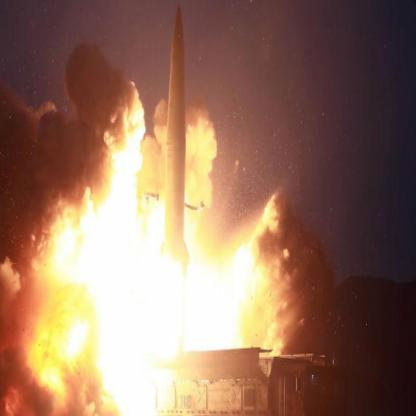MIL_TBM: (162, 0, 190, 262)
